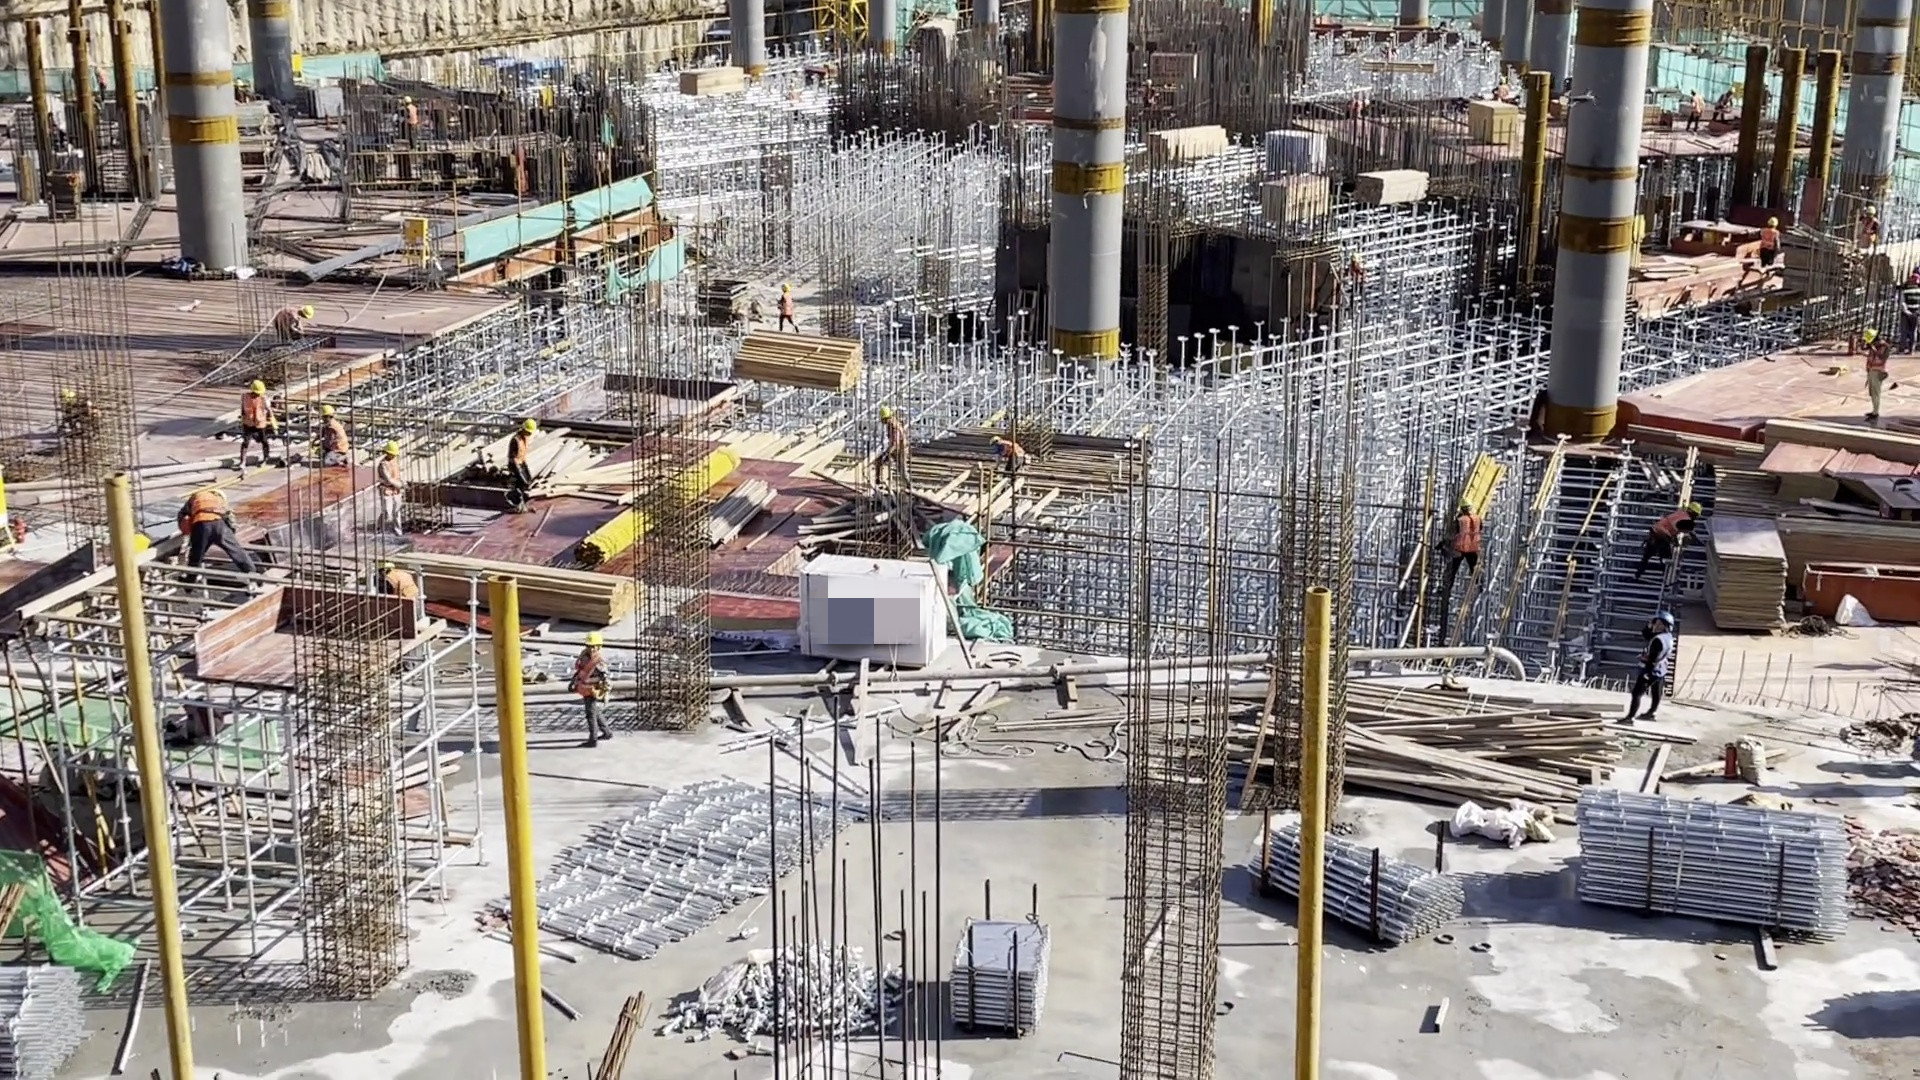board: (1704, 511, 1788, 638), (1765, 436, 1841, 524), (1258, 169, 1331, 220), (1470, 98, 1520, 147)
cutter: (1665, 214, 1758, 260)
ebox: (400, 217, 427, 269)
helmet: (380, 439, 400, 456), (1651, 613, 1673, 628), (249, 379, 266, 396), (319, 404, 337, 419), (586, 632, 601, 647), (520, 418, 536, 433), (877, 405, 892, 420), (1686, 501, 1702, 514), (301, 303, 313, 319), (1863, 330, 1877, 343), (1458, 497, 1472, 509), (780, 282, 790, 292)
person: (168, 481, 259, 591), (567, 630, 614, 749), (1634, 611, 1674, 739), (1640, 500, 1701, 564), (1856, 328, 1891, 428), (372, 435, 408, 530), (242, 379, 276, 478), (504, 415, 541, 501), (1443, 497, 1479, 583), (378, 557, 429, 615), (870, 405, 904, 489), (310, 405, 353, 461), (274, 302, 313, 347), (990, 435, 1026, 472), (775, 282, 799, 332), (1759, 215, 1780, 267), (394, 99, 411, 154), (1858, 206, 1879, 241)
scaffold: (530, 773, 877, 963), (1561, 773, 1841, 961), (1251, 812, 1465, 962), (949, 915, 1055, 1036), (1, 951, 94, 1080)
vest: (572, 653, 608, 706), (1642, 633, 1675, 680), (383, 568, 420, 601), (190, 493, 229, 522), (1652, 510, 1690, 537), (1456, 515, 1482, 553), (318, 419, 347, 452), (379, 459, 401, 496), (244, 394, 267, 429), (274, 308, 296, 341), (510, 434, 530, 468), (884, 421, 902, 456), (1869, 341, 1888, 375), (997, 441, 1026, 461), (1759, 228, 1779, 250), (780, 291, 792, 316), (1766, 216, 1778, 227)
wood: (1303, 687, 1624, 799), (477, 422, 704, 503), (365, 559, 644, 624), (727, 329, 872, 388), (1149, 125, 1231, 166), (1359, 169, 1428, 206), (679, 65, 742, 96)
